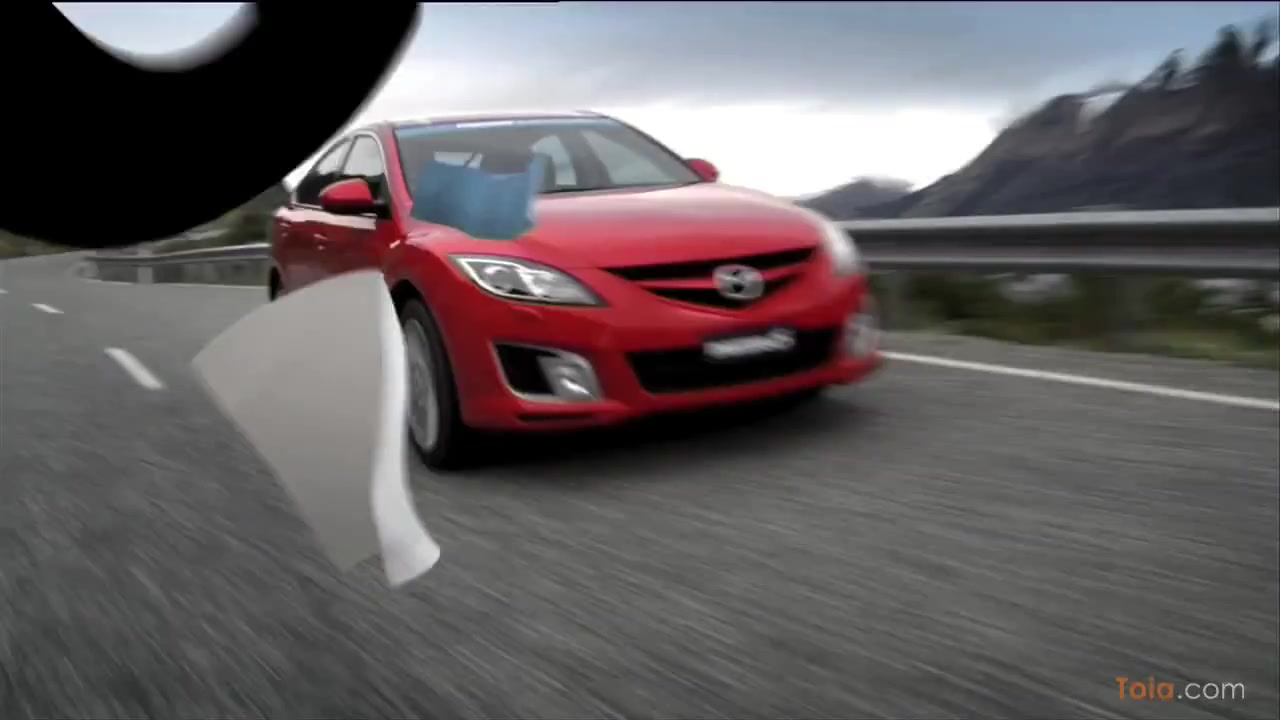car: (262, 112, 886, 478)
